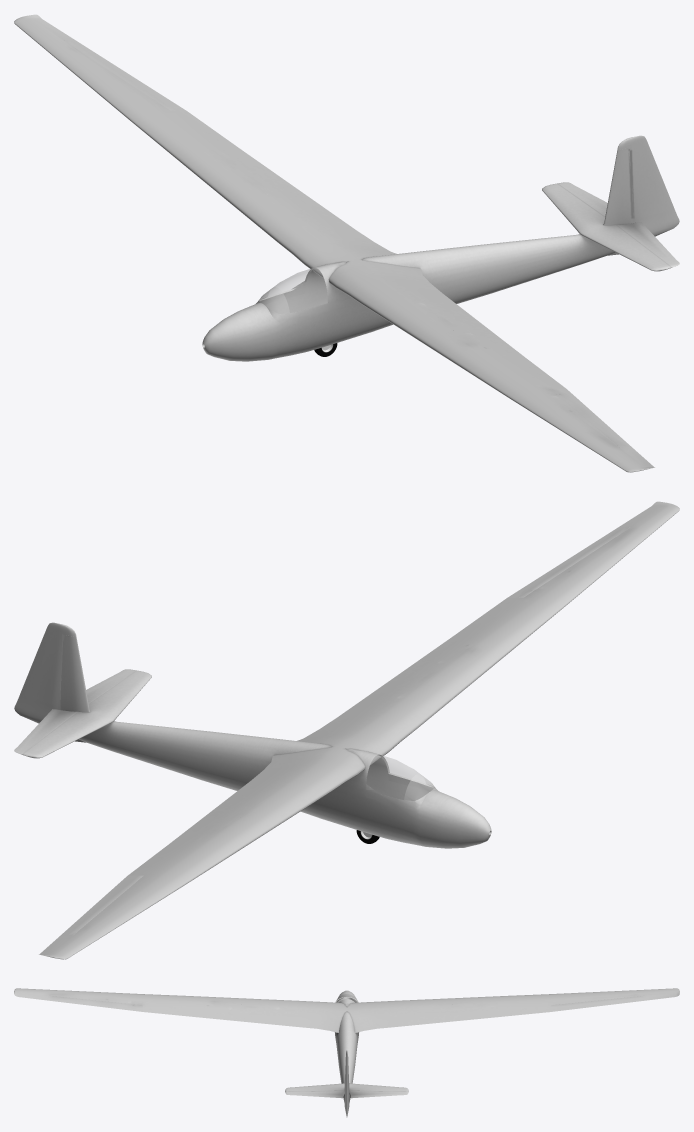
3 views of the same model, one above another, from view 1: azimuth 30°, elevation 25°; view 2: azimuth 150°, elevation 25°; view 3: azimuth 270°, elevation 25° (orthographic). The views are drawn at different scales.
Visible parts, largest first — view 1: wing, body, rudder, hstab, window.ext, vstab, elevator, aileronR, canopy, aileronL; view 2: wing, body, rudder, hstab, window.ext, vstab, elevator, aileronL, canopy, aileronR; view 3: wing, body, hstab, elevator, aileronL, aileronR, rudder.
Boxes of the visible parts, box(x1,y1,x2,y2) form: wing: box(14, 14, 654, 472); body: box(202, 234, 615, 361); rudder: box(617, 135, 679, 236); hstab: box(542, 183, 670, 271); window.ext: box(259, 268, 327, 313); vstab: box(603, 148, 633, 255); elevator: box(557, 182, 679, 267); aileronR: box(64, 40, 186, 110); canopy: box(255, 267, 328, 321); aileronL: box(550, 388, 633, 448); wing: box(39, 501, 679, 959); body: box(79, 721, 491, 848); rudder: box(14, 622, 76, 723); hstab: box(23, 670, 151, 758); window.ext: box(366, 755, 434, 800); vstab: box(60, 635, 90, 742); elevator: box(14, 669, 136, 754); aileronL: box(507, 527, 629, 597); canopy: box(365, 754, 438, 808); aileronR: box(60, 875, 143, 935); wing: box(14, 988, 679, 1032); body: box(335, 990, 358, 1102); hstab: box(285, 1083, 408, 1091); elevator: box(285, 1090, 408, 1098); aileronL: box(47, 995, 142, 1011); aileronR: box(551, 995, 646, 1011); rudder: box(344, 1050, 349, 1116).
Size of the model in its own units: 6.65 by 1.92 by 14.98.
3 materials, 2 textured.
